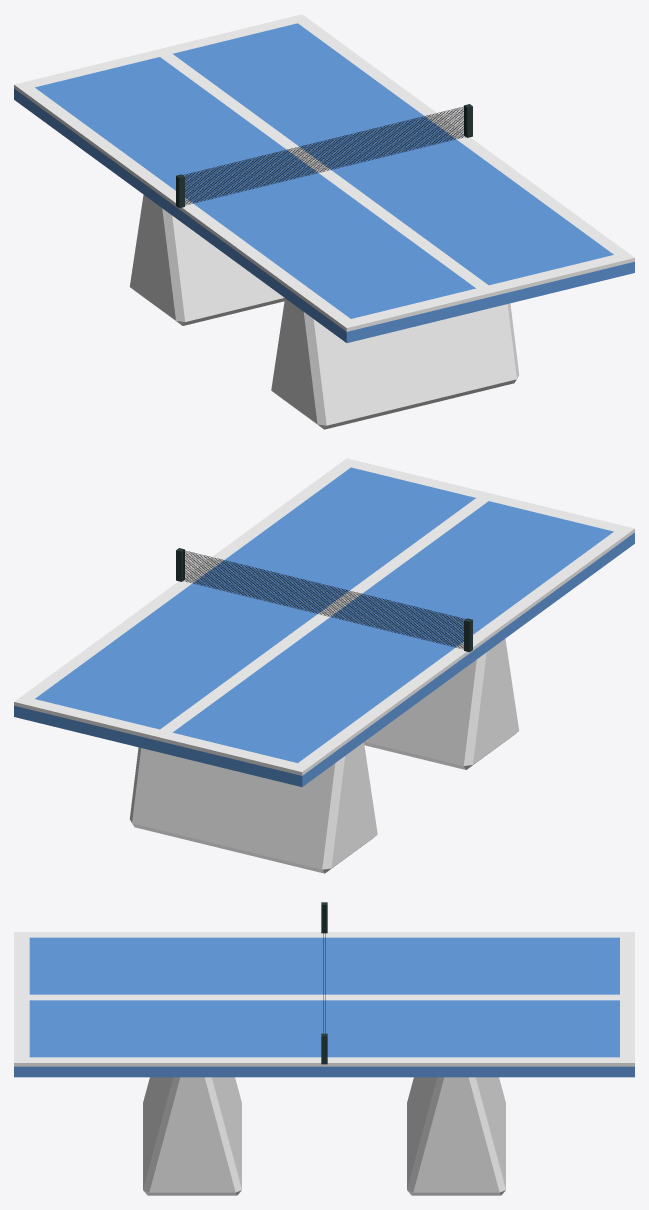
Rendered from pongie.glb.
3 renders of one model, top to bottom at view 1: azimuth 30°, elevation 25°; view 2: azimuth 150°, elevation 25°; view 3: azimuth 270°, elevation 25°, orthographic. The views are drawn at different scales.
Parts seen in each view (by area): view 1: Cube.001, Cube, Cube.002, Cube.003; view 2: Cube.001, Cube.002, Cube, Cube.003; view 3: Cube.001, Cube, Cube.002.
Boxes of the visible parts, <box> form: Cube.001: <box>14,14,634,342</box>; Cube: <box>271,298,519,429</box>; Cube.002: <box>129,195,284,325</box>; Cube.003: <box>183,106,465,205</box>; Cube.001: <box>14,458,634,786</box>; Cube.002: <box>129,742,377,873</box>; Cube: <box>364,639,519,769</box>; Cube.003: <box>183,550,465,649</box>; Cube.001: <box>14,932,634,1077</box>; Cube: <box>143,1077,241,1195</box>; Cube.002: <box>407,1077,505,1195</box>.
Bounding box in the file's own units: 20.4 × 13.01 × 40.
